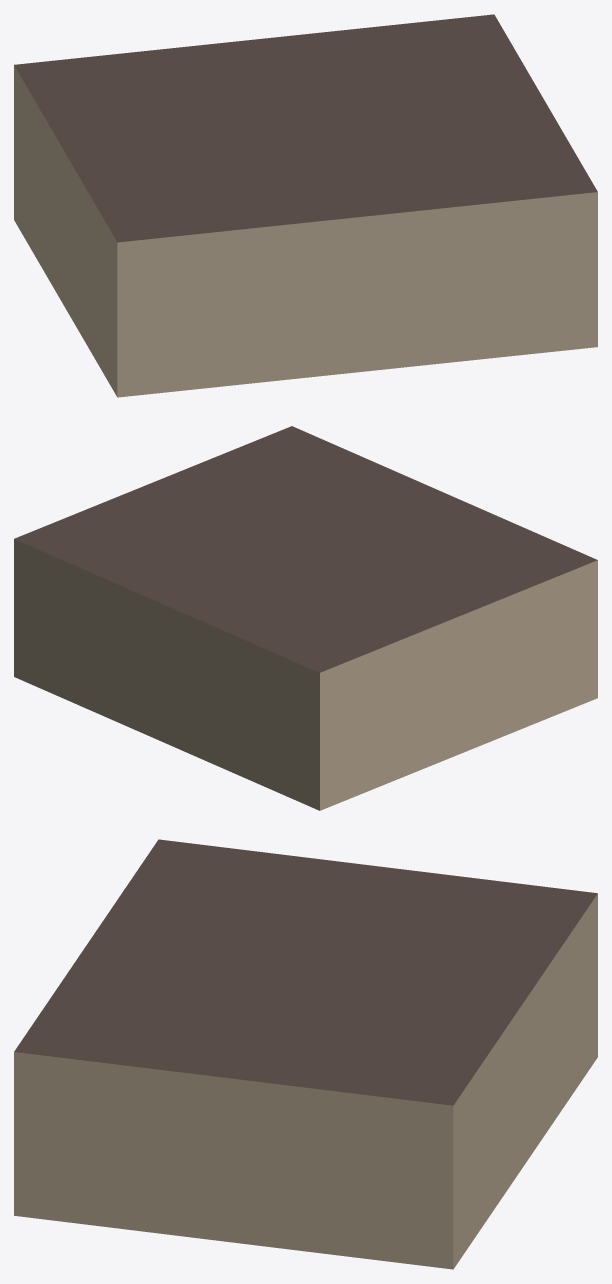
The picture shows the model from 3 angles, top to bottom: view 1: azimuth 30°, elevation 25°; view 2: azimuth 150°, elevation 25°; view 3: azimuth 270°, elevation 25°; orthographic projection. The views are drawn at different scales.
Visible parts, largest first — view 1: HP-w441877190; view 2: HP-w441877190; view 3: HP-w441877190.
Part boxes in pixels (x1,y1,x2,y2): HP-w441877190: (14, 14, 597, 397); HP-w441877190: (14, 426, 597, 810); HP-w441877190: (14, 839, 597, 1269).
Size of the model in its own units: 31.37 by 9 by 29.07.
